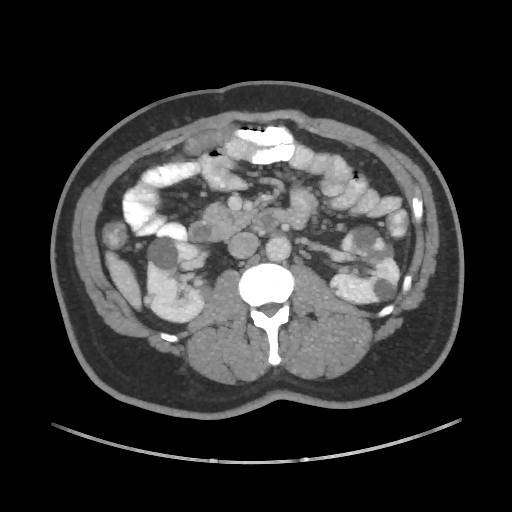Lesion: (141, 292, 158, 311)
